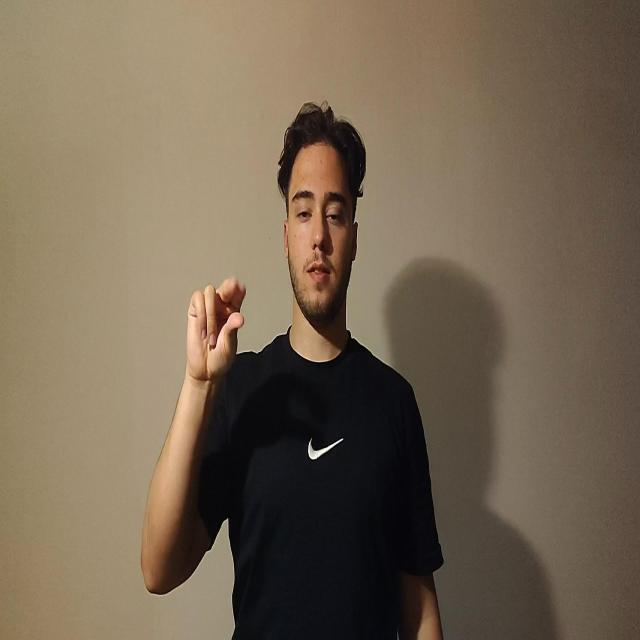no: (186, 275, 246, 383)
